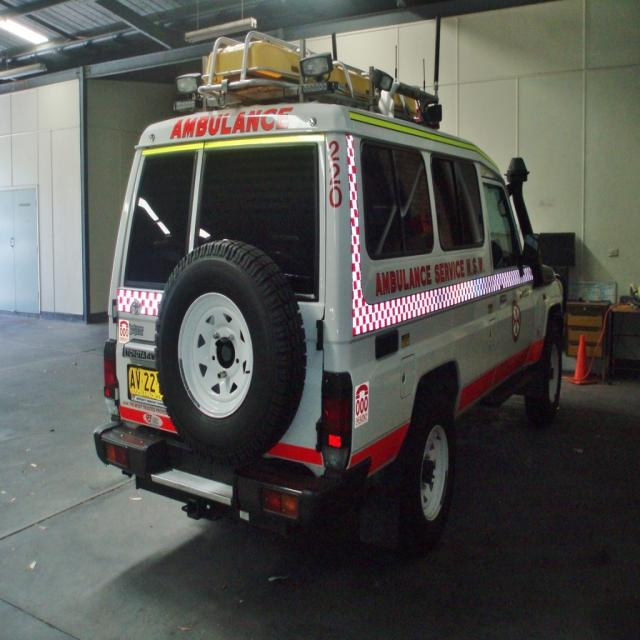car: (82, 34, 587, 566)
